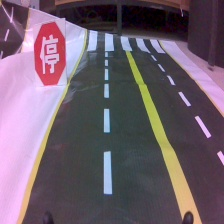stop: (33, 17, 69, 87)
